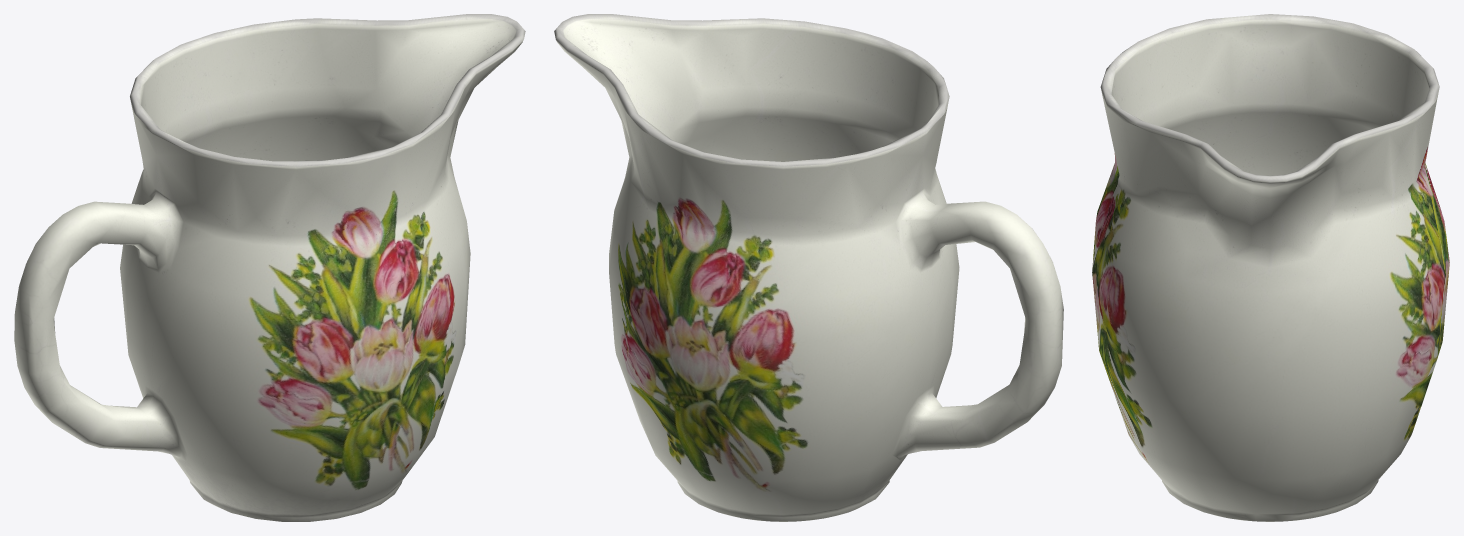
The model's file is jug_01_lod2.glb.
3 views of the same model, side by side, from view 1: azimuth 30°, elevation 25°; view 2: azimuth 150°, elevation 25°; view 3: azimuth 270°, elevation 25° (orthographic). The views are drawn at different scales.
Visible parts, largest first — view 1: jug_01; view 2: jug_01; view 3: jug_01.
Part boxes in pixels (box(x1,y1,x2,y2)): jug_01: box(14, 14, 525, 521); jug_01: box(554, 14, 1063, 521); jug_01: box(1092, 14, 1449, 521).
Bounding box in the file's own units: 0.275 × 0.2113 × 0.1668.
1 material, 1 textured.
